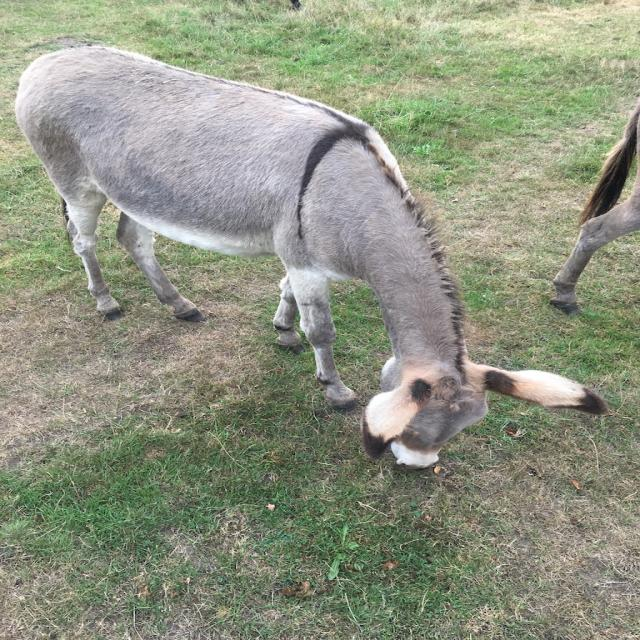Donkey: (11, 44, 611, 472)
